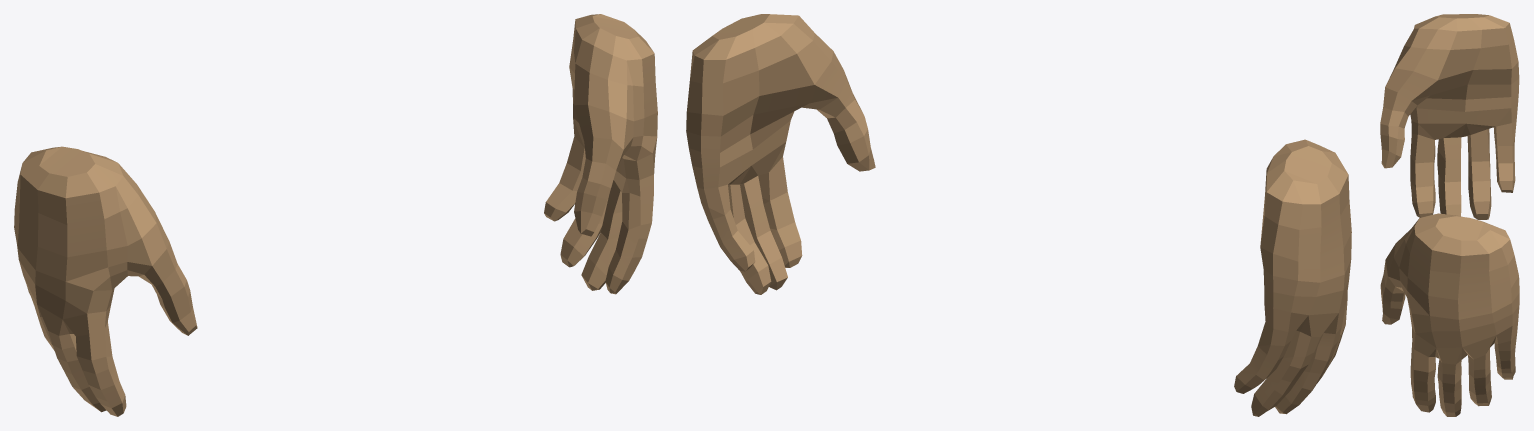
File: Hands_0.glb
The picture shows the model from 3 angles, left to right: view 1: azimuth 30°, elevation 25°; view 2: azimuth 150°, elevation 25°; view 3: azimuth 270°, elevation 25°; orthographic projection. The views are drawn at different scales.
Parts seen in each view (by area): view 1: Hands_0; view 2: Hands_0; view 3: Hands_0.
Boxes of the visible parts, x1,y1,x2,y2 form: Hands_0: (14, 14, 657, 416); Hands_0: (686, 14, 1351, 416); Hands_0: (1380, 14, 1519, 416).
Size of the model in its own units: 25.27 by 10.08 by 6.24.
Materials: 1 (1 with a texture image).
